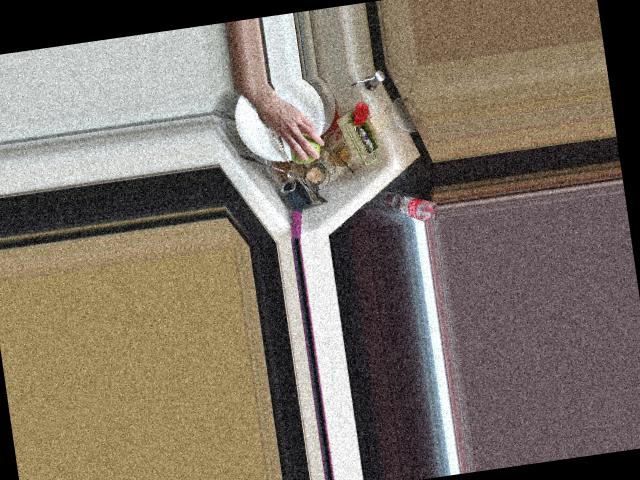apple: (286, 129, 322, 165)
